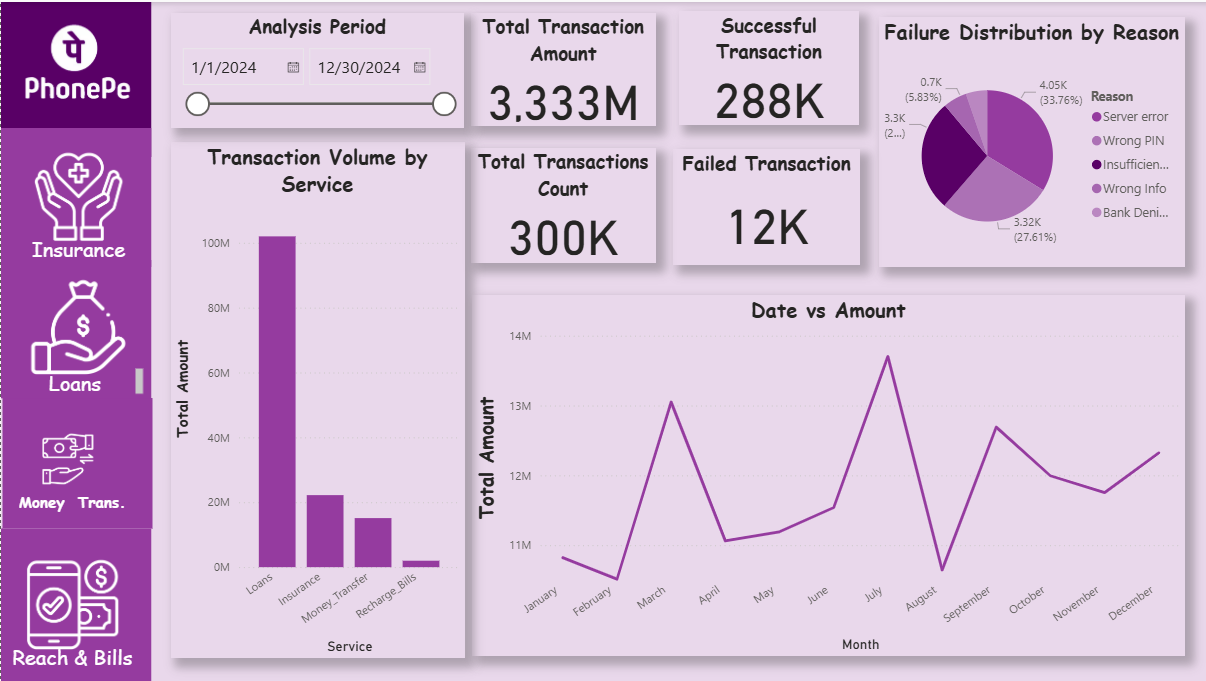

This screenshot's page, from the dashboard's own definition file:
{"tool":"powerbi","page":{"name":"OverView","canvas":[1280,720],"ordinal":1},"visuals":[{"type":"shape","box":[0,0,159.4,164.1],"z":0,"group":"g1"},{"type":"slicer","title":"Analysis Period","fields":{"Values":["All_Transactions.Date"]},"box":[179.7,10.9,311,121.9],"z":0},{"type":"card","title":"Total Transaction Amount ","fields":{"Values":["Sum(All_Transactions.Amount)"]},"box":[498.3,10.7,196.5,120.9],"z":1000},{"type":"shape","box":[0,132.9,159.4,146.9],"z":1000,"group":"g2"},{"type":"card","title":"Successful Transaction","fields":{"Values":["Count(All_Transactions.Transaction_ID)"]},"box":[719.4,8.8,190.9,120.9],"z":2000},{"type":"shape","box":[0,273.6,159.4,146.9],"z":2000,"group":"g4"},{"type":"card","title":"Total Transactions Count","fields":{"Values":["Count(All_Transactions.Transaction_ID)"]},"box":[498.3,154.3,196.5,122.8],"z":3000},{"type":"shape","box":[0,558,159.4,162.6],"z":3000,"group":"g3"},{"type":"shape","box":[1.6,419.9,159.1,138.4],"z":4000},{"type":"image","box":[12.5,10.9,136,111],"z":5000,"group":"g1"},{"type":"card","title":"Failed Transaction","fields":{"Values":["Count(All_Transactions.Transaction_ID)"]},"box":[711.8,156.2,198.4,122.8],"z":5000},{"type":"pieChart","title":"Failure Distribution by Reason","fields":{"Category":["All_Transactions.Reason"],"Y":["CountNonNull(All_Transactions.Reason)"]},"box":[929.8,15.1,325,264.6],"z":6000},{"type":"image","box":[14.1,150.1,136,111],"z":6000,"group":"g2"},{"type":"image","box":[15.6,287.7,136,111],"z":7000,"group":"g4"},{"type":"lineChart","title":"Date vs Amount ","fields":{"Category":["All_Transactions.Date.Variation.Date Hierarchy.Month"],"Y":["Sum(All_Transactions.Amount)"]},"box":[498.9,309.9,755.9,383.6],"z":7000},{"type":"clusteredColumnChart","title":"Transaction Volume by Service","fields":{"Y":["Sum(All_Transactions.Amount)"],"Category":["All_Transactions.Service"]},"box":[179.5,147.4,311.8,548],"z":8000},{"type":"image","box":[7.8,583,136,111],"z":8000,"group":"g3"},{"type":"group","id":"g1","title":"Group 1","box":[0,0,159.4,164.1],"z":9000},{"type":"group","id":"g2","title":"Group 2","box":[0,132.9,159.4,146.9],"z":10000},{"type":"textbox","box":[7.8,240.7,148.5,39.1],"z":10000,"group":"g2"},{"type":"textbox","box":[8,383.4,147.9,38.2],"z":11000,"group":"g4"},{"type":"image","box":[9.5,454.1,122.5,59.5],"z":11000},{"type":"group","id":"g3","title":"Group 5","box":[0,140,159.4,580.6],"z":12000},{"type":"actionButton","box":[3.2,276.8,151.1,143.2],"z":13000},{"type":"textbox","box":[1.6,673.7,148.5,39.1],"z":13000,"group":"g3"},{"type":"textbox","box":[1.6,513.7,147.9,37.2],"z":14000},{"type":"group","id":"g4","title":"Group 3","box":[0,273.6,159.4,147.9],"z":15000},{"type":"actionButton","box":[11.6,580,149.5,140],"z":16000},{"type":"actionButton","box":[5.7,436.5,149.3,130.4],"z":17000},{"type":"actionButton","box":[6.4,140,151.1,133.6],"z":19008,"group":"g3"}]}

Visuals, with their boxes in screenshot pixels (x1, y1, x2, y2), scaled from the page's 1280x720 canvas onto the 1206x681 screenshot:
shape: (left=0, top=0, right=150, bottom=155)
"Analysis Period" slicer: (left=169, top=10, right=462, bottom=126)
"Total Transaction Amount " card: (left=469, top=10, right=655, bottom=124)
shape: (left=0, top=126, right=150, bottom=265)
"Successful Transaction" card: (left=678, top=8, right=858, bottom=123)
shape: (left=0, top=259, right=150, bottom=398)
"Total Transactions Count" card: (left=469, top=146, right=655, bottom=262)
shape: (left=0, top=528, right=150, bottom=680)
shape: (left=2, top=397, right=151, bottom=528)
image: (left=12, top=10, right=140, bottom=115)
"Failed Transaction" card: (left=671, top=148, right=858, bottom=264)
"Failure Distribution by Reason" pieChart: (left=876, top=14, right=1182, bottom=265)
image: (left=13, top=142, right=141, bottom=247)
image: (left=15, top=272, right=143, bottom=377)
"Date vs Amount " lineChart: (left=470, top=293, right=1182, bottom=656)
"Transaction Volume by Service" clusteredColumnChart: (left=169, top=139, right=463, bottom=658)
image: (left=7, top=551, right=135, bottom=656)
"Group 1" group: (left=0, top=0, right=150, bottom=155)
"Group 2" group: (left=0, top=126, right=150, bottom=265)
textbox: (left=7, top=228, right=147, bottom=265)
textbox: (left=8, top=363, right=147, bottom=399)
image: (left=9, top=430, right=124, bottom=486)
"Group 5" group: (left=0, top=132, right=150, bottom=680)
actionButton: (left=3, top=262, right=145, bottom=397)
textbox: (left=2, top=637, right=141, bottom=674)
textbox: (left=2, top=486, right=141, bottom=521)
"Group 3" group: (left=0, top=259, right=150, bottom=399)
actionButton: (left=11, top=549, right=152, bottom=680)
actionButton: (left=5, top=413, right=146, bottom=536)
actionButton: (left=6, top=132, right=148, bottom=259)
